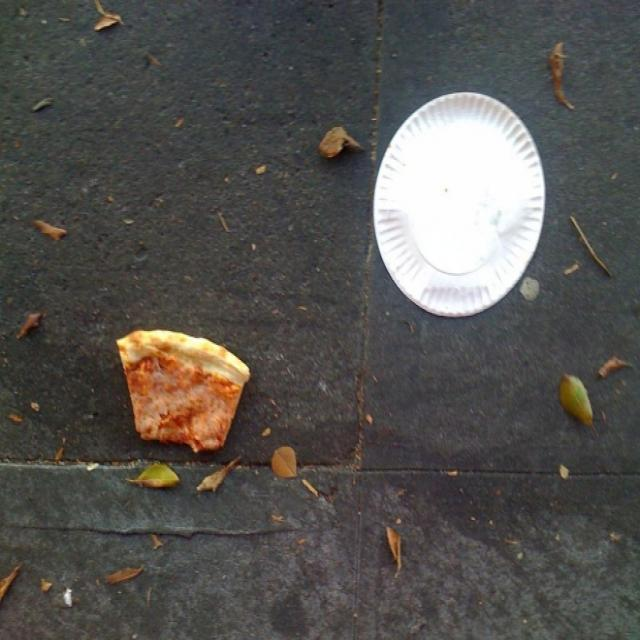plastic: (359, 98, 552, 327)
